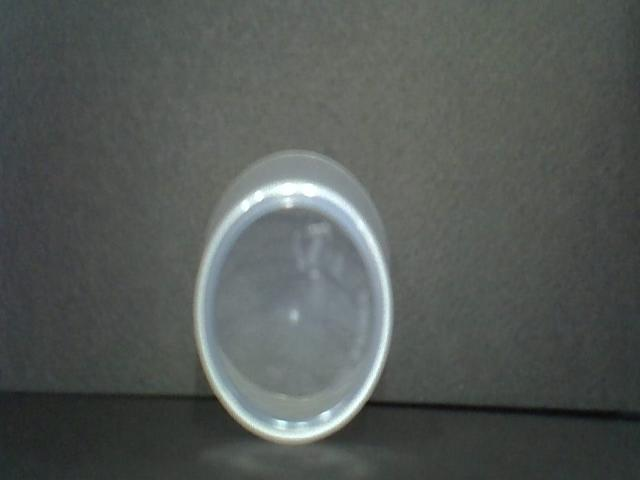cup: (187, 144, 399, 459)
